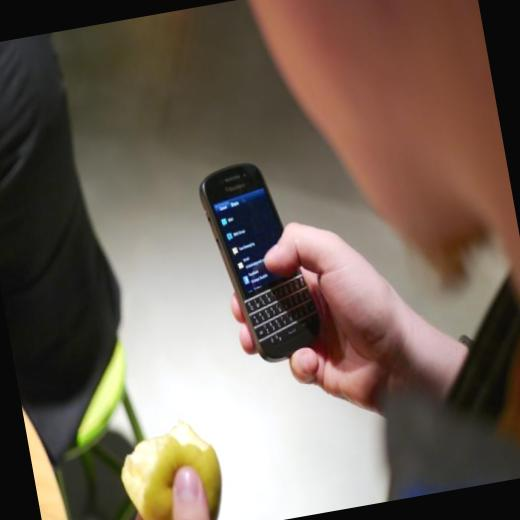Apple: (111, 413, 231, 520)
